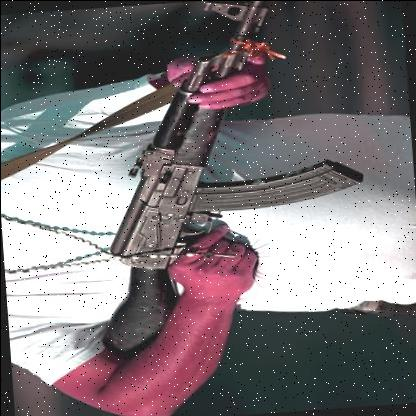rifle: (69, 0, 376, 363)
